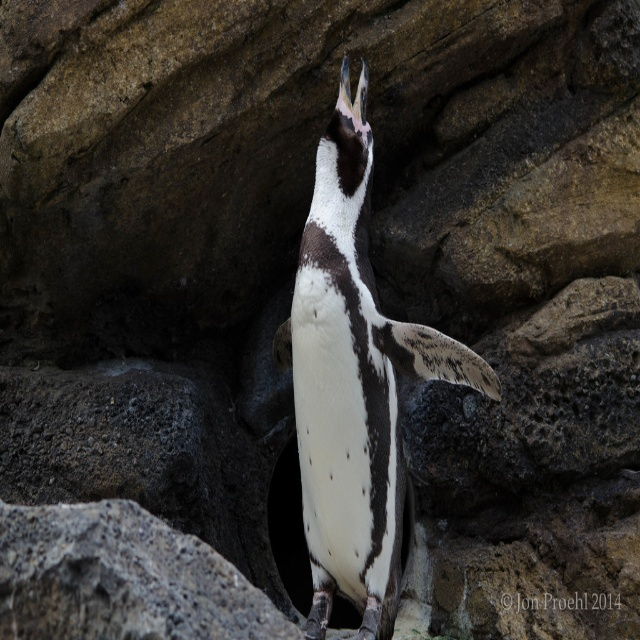Penguin: (278, 37, 501, 636)
